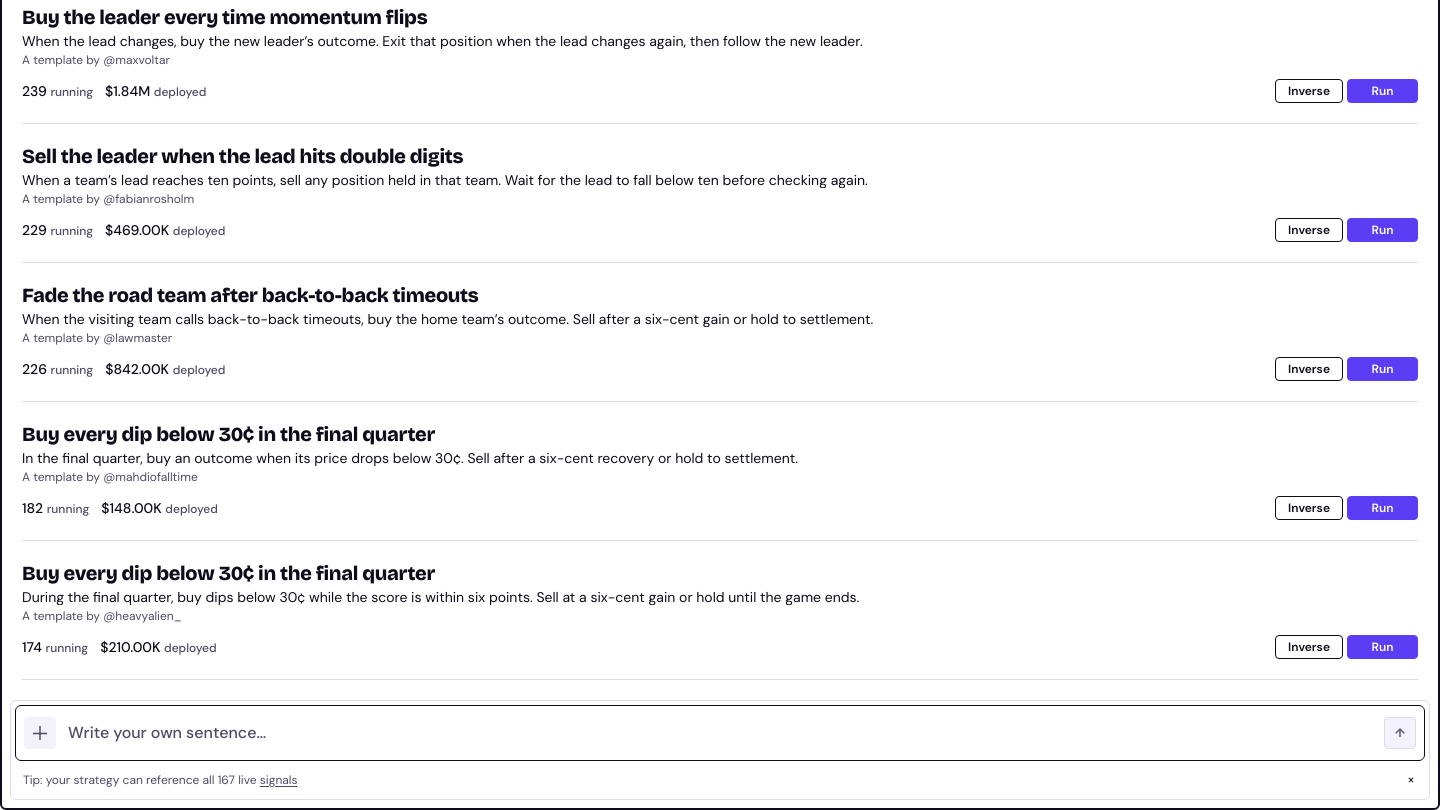
Scenario: Kyros chat › replaces public strategies with the submitted message and streamed answer
(page scrolled)
Type "Hello" into the field named "Message Kyros" at (720, 733), box [68, 724, 1372, 742]
Then press Enter
(page scrolled)
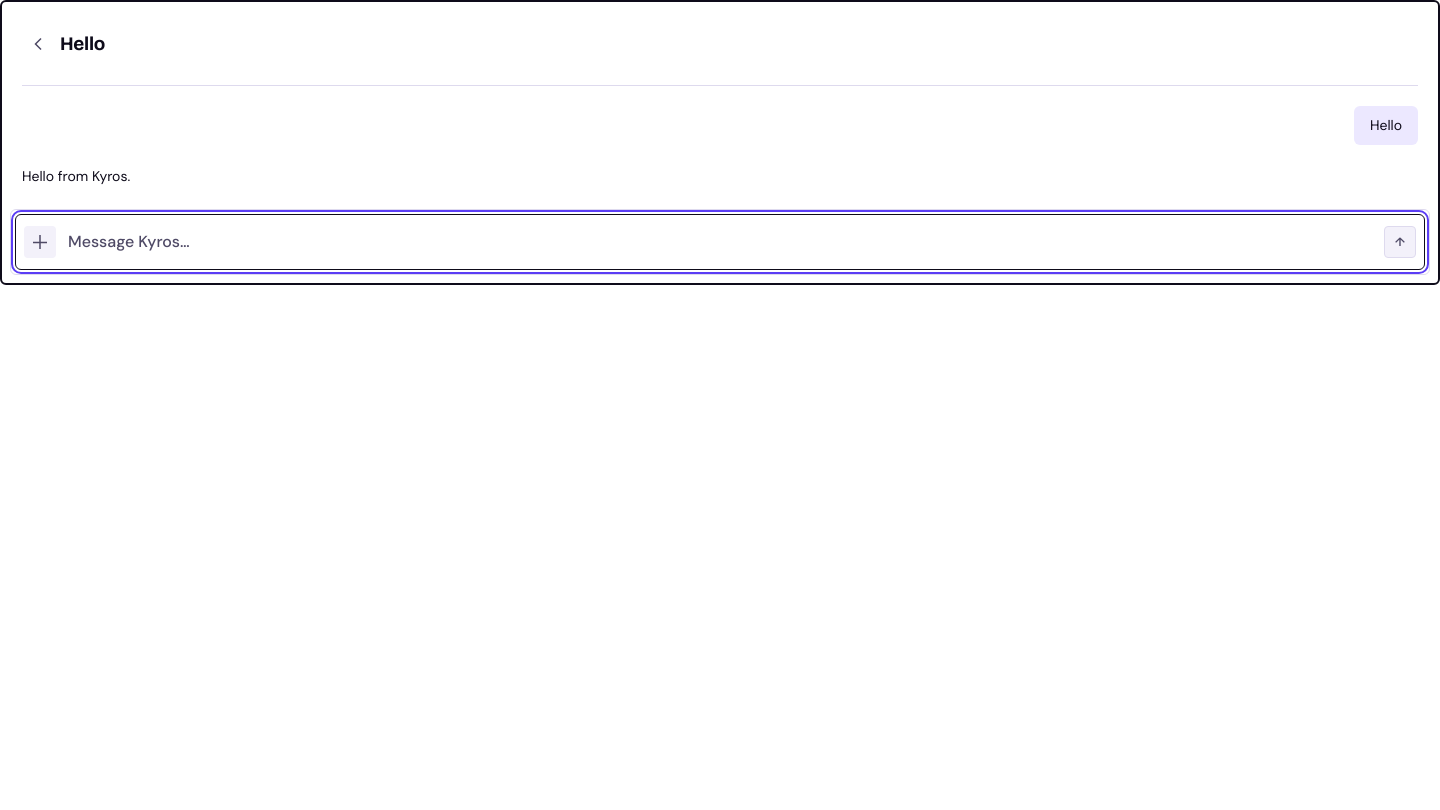
Now the element named "You" reads "Hello", box [1370, 116, 1402, 134]
Now the text "Hello from Kyros." is shown, box [22, 167, 130, 185]
Now the button named "Send message" is disabled, box [1384, 226, 1416, 258]
